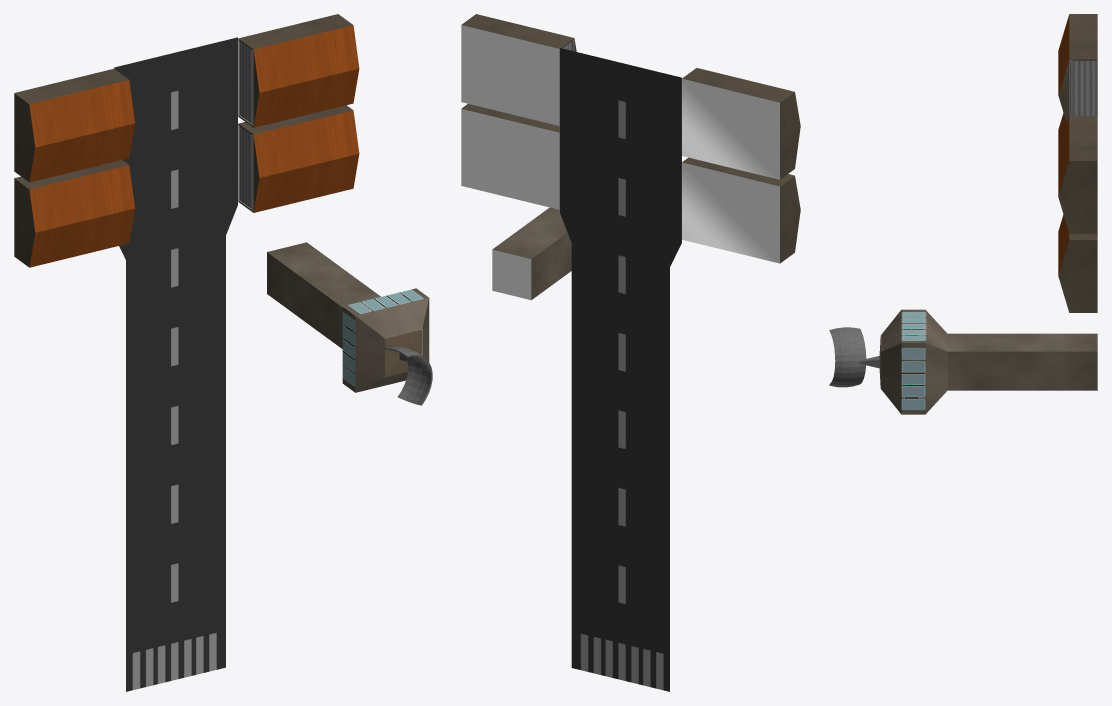
File: Airport.obj
The picture shows the model from 3 angles, left to right: view 1: azimuth 30°, elevation 25°; view 2: azimuth 150°, elevation 25°; view 3: azimuth 270°, elevation 25°; orthographic projection. The views are drawn at different scales.
Visible parts, largest first — view 1: Box03; view 2: Box03; view 3: Box03.
Part boxes in pixels (bbox=[...]): Box03: bbox=[14, 14, 432, 691]; Box03: bbox=[461, 14, 800, 691]; Box03: bbox=[829, 14, 1097, 414].
Bounding box in the file's own units: 12.77 × 23.62 × 9.85.
